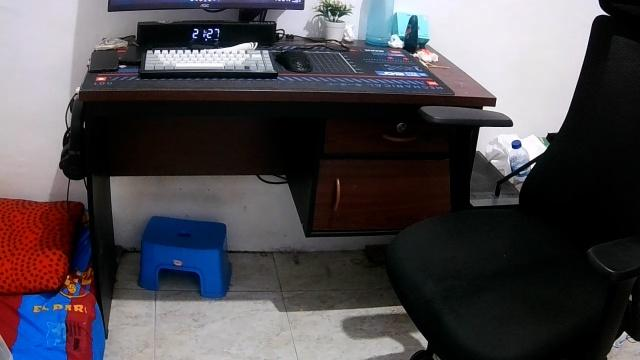Kursi: (383, 0, 639, 357)
Meja: (77, 39, 496, 141)
